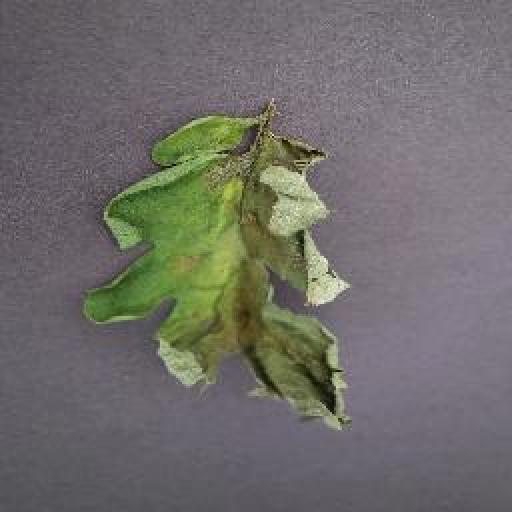disease_tomato: (84, 114, 360, 436)
